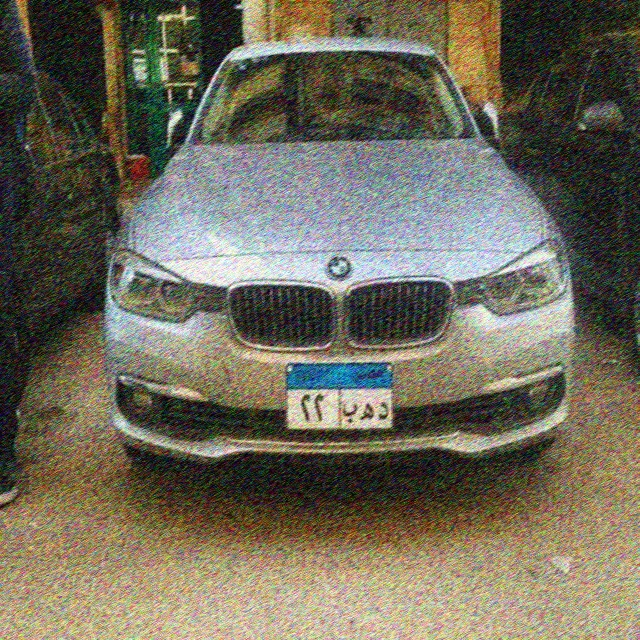License Plate: (282, 359, 395, 435)
